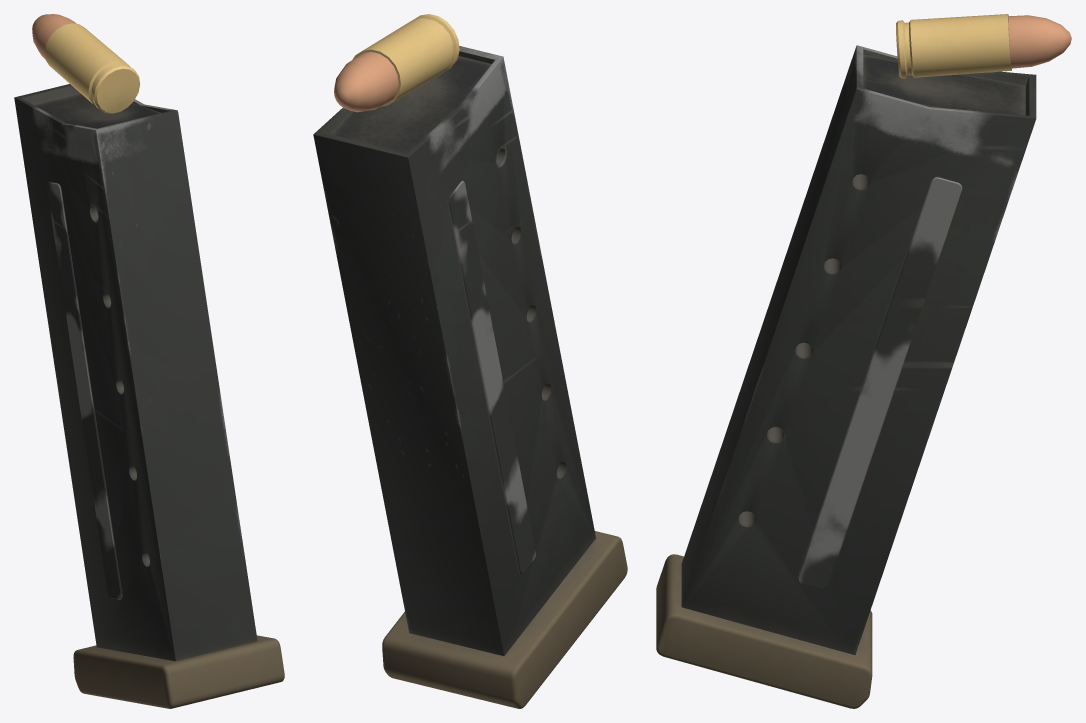
Rendered from carregador_guardia_17.glb.
3 renders of one model, left to right at view 1: azimuth 30°, elevation 25°; view 2: azimuth 150°, elevation 25°; view 3: azimuth 270°, elevation 25°, orthographic. The views are drawn at different scales.
Visible parts, largest first — view 1: carregador_guardia_17_carregador; view 2: carregador_guardia_17_carregador; view 3: carregador_guardia_17_carregador.
Boxes of the visible parts, <box> form: carregador_guardia_17_carregador: <box>14,14,284,708</box>; carregador_guardia_17_carregador: <box>313,14,627,708</box>; carregador_guardia_17_carregador: <box>656,14,1071,708</box>.
Size of the model in its own units: 0.0248 by 0.124 by 0.0705.
1 material, 1 textured.
